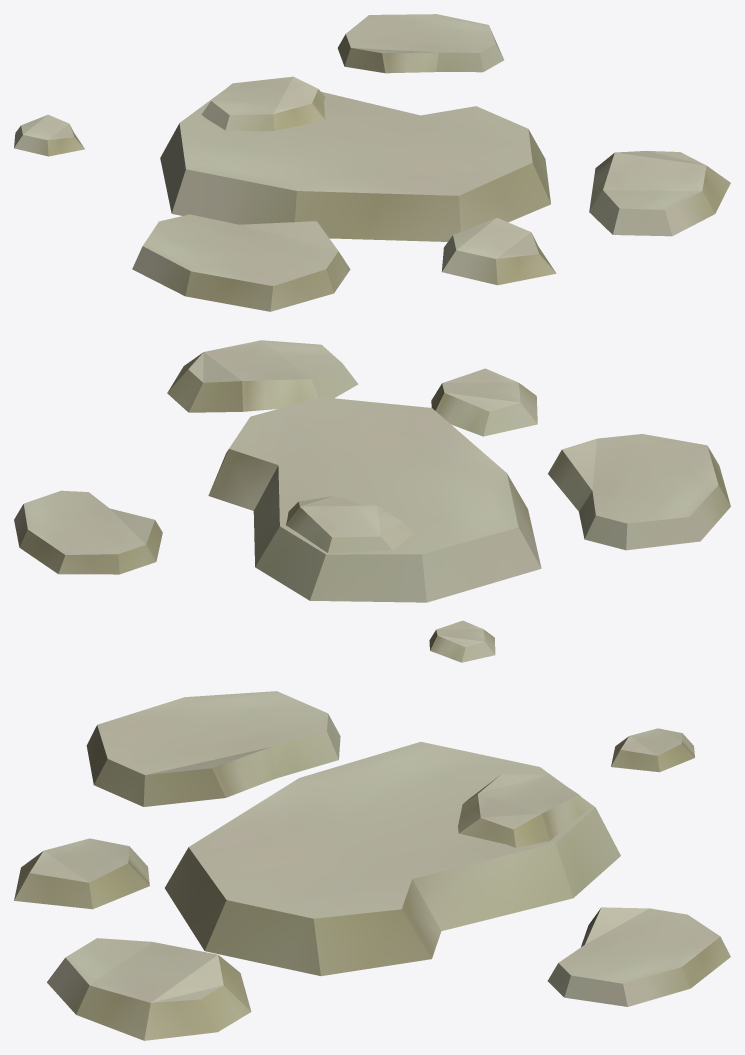
The model's file is Rocks_Decal_1.fbx.
The picture shows the model from 3 angles, top to bottom: view 1: azimuth 30°, elevation 25°; view 2: azimuth 150°, elevation 25°; view 3: azimuth 270°, elevation 25°; orthographic projection. The views are drawn at different scales.
Parts seen in each view (by area): view 1: Rocks_Decal_1; view 2: Rocks_Decal_1; view 3: Rocks_Decal_1.
Boxes of the visible parts, x1=… form: Rocks_Decal_1: x1=14, y1=14, x2=730, y2=311; Rocks_Decal_1: x1=14, y1=340, x2=730, y2=662; Rocks_Decal_1: x1=14, y1=691, x2=730, y2=1040.
Size of the model in its own units: 0.9029 by 0.0875 by 0.847.
